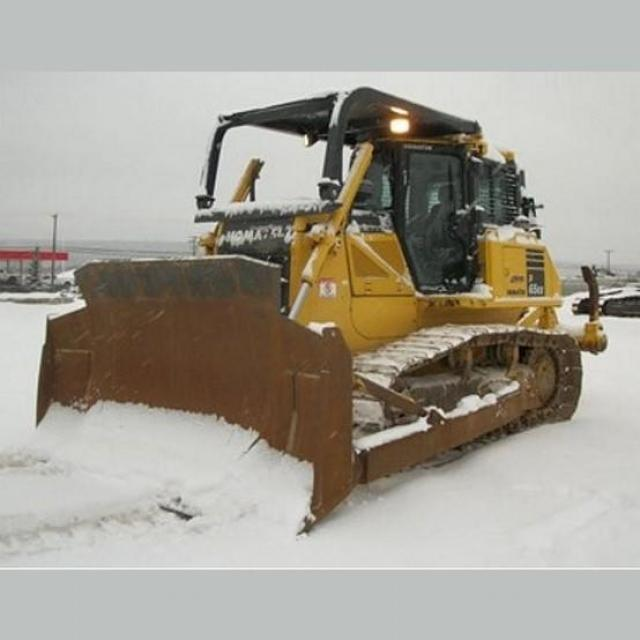Bulldozer: (37, 88, 610, 526)
